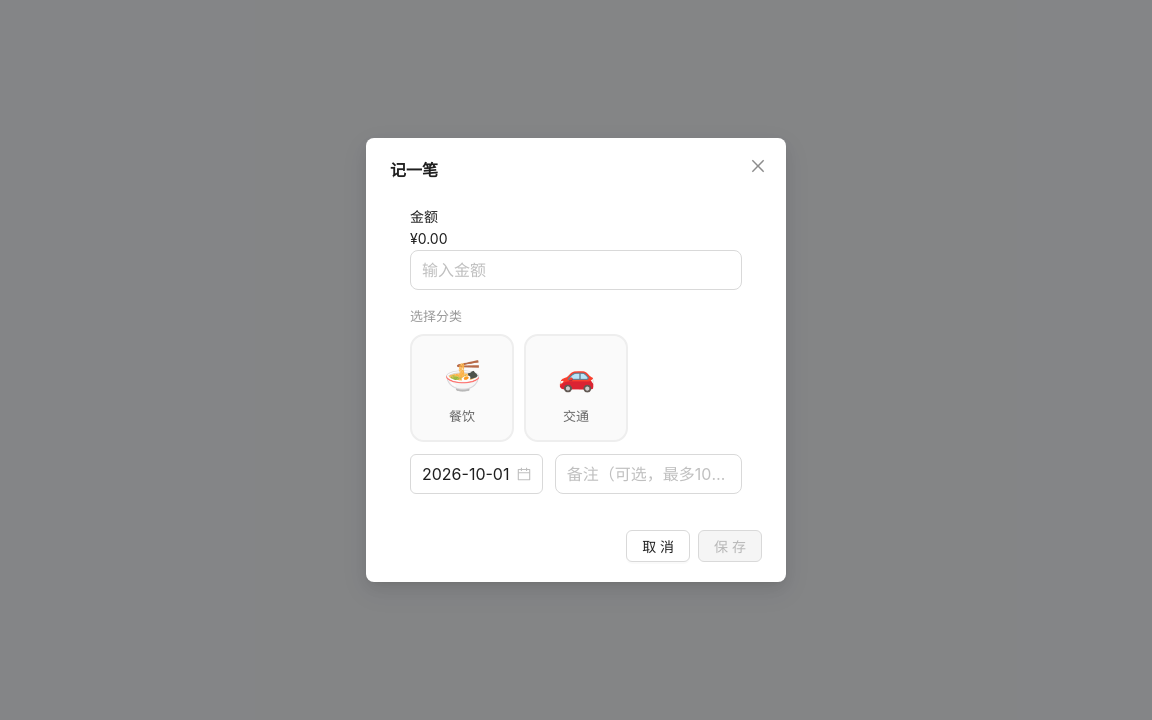
Test case: AddExpenseModal 记账弹窗组件 › 选择一级分类后应该显示对应的二级分类
What coordinates should you click on to do the following:
click the text "餐饮"
I would click on:
 (462, 416)
Its box is [449,406,475,426].
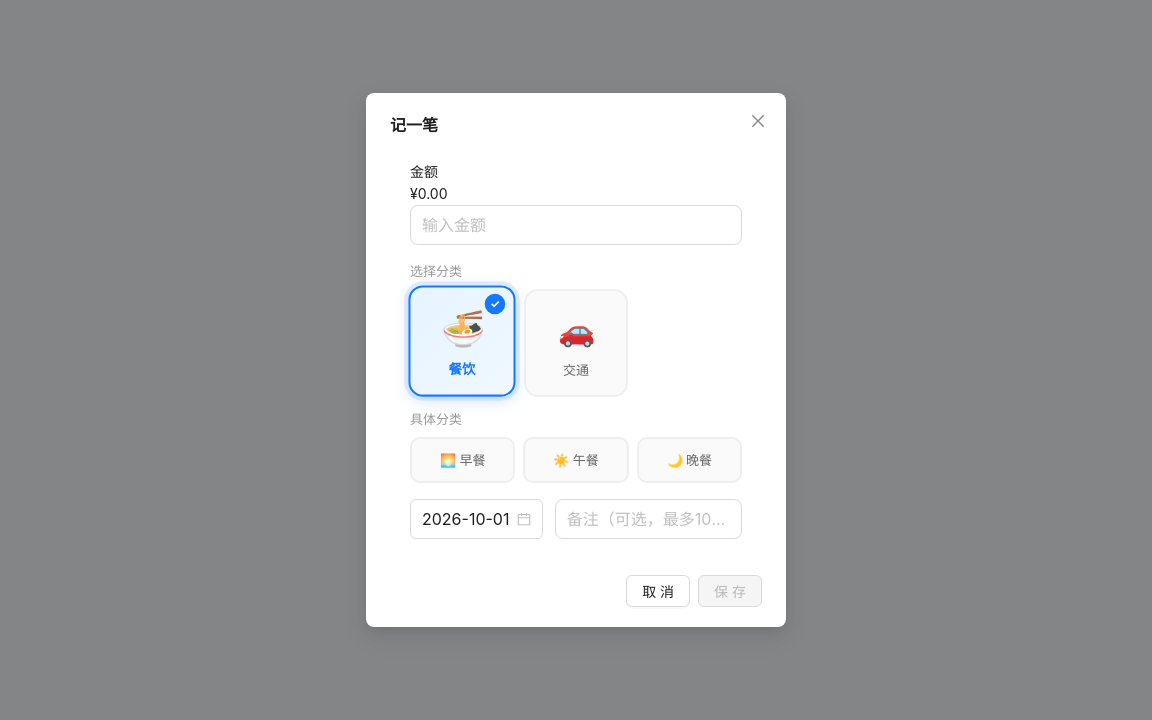
Now the text "具体分类" is shown, box [410,411,462,427]
Now the text "🌅 早餐" is shown, box [410,437,515,483]
Now the text "☀️ 午餐" is shown, box [523,437,629,483]
